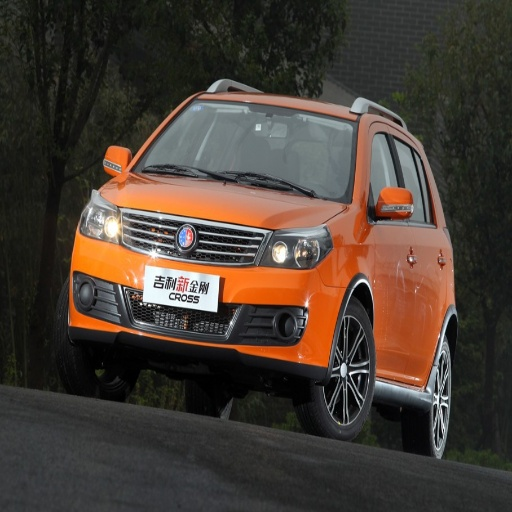front_bumper: (69, 208, 347, 377)
front_glass: (124, 98, 358, 202)
front_left_door: (365, 120, 418, 376)
front_right_light: (79, 194, 126, 244)
